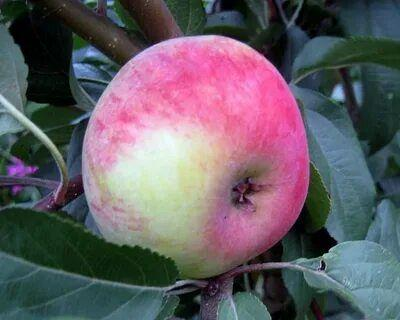Apple: (82, 36, 310, 279)
